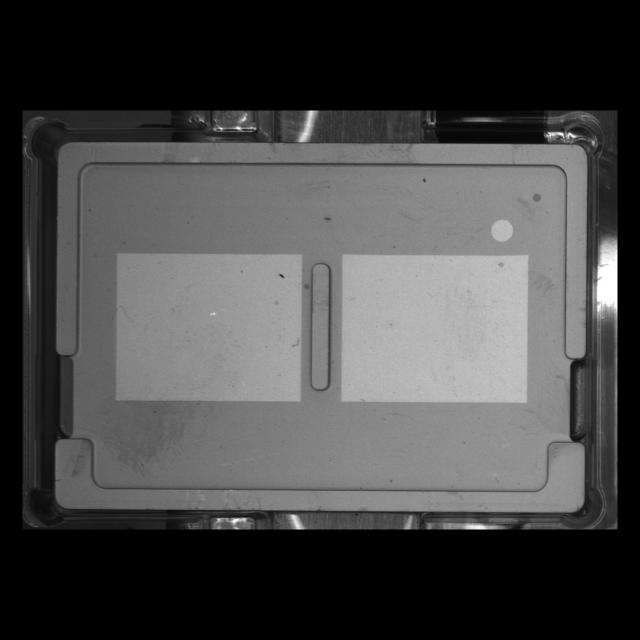door: (41, 429, 594, 523)
point: (487, 214, 518, 246)
